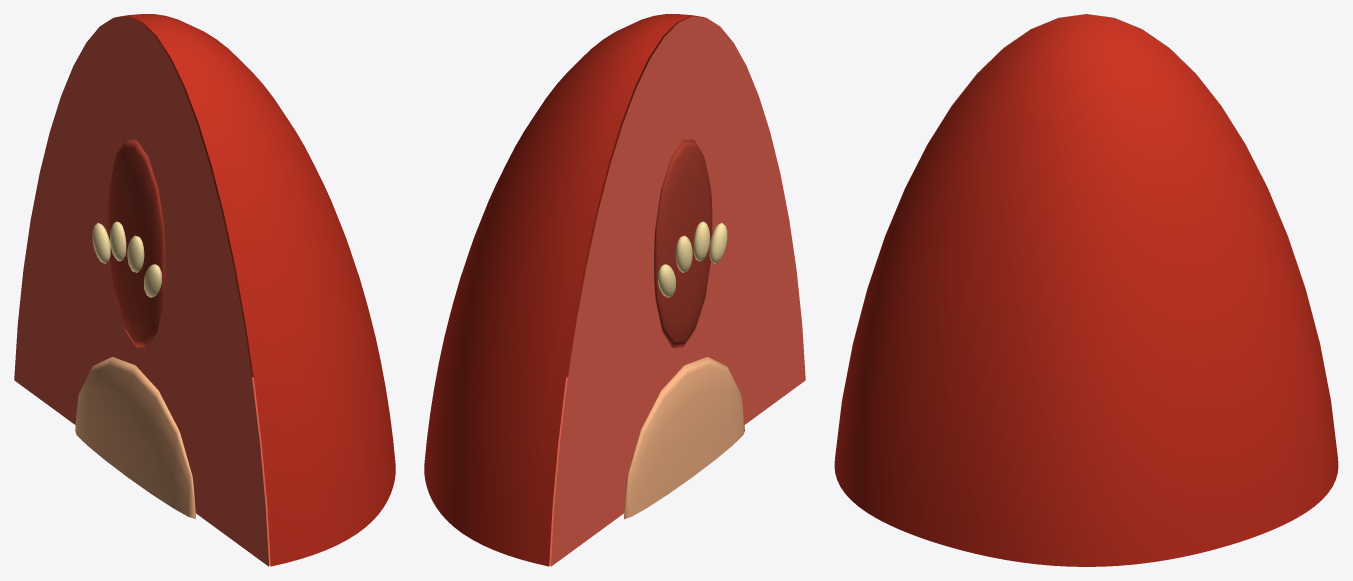
Rendered from roma_wedge.glb.
3 views of the same model, side by side, from view 1: azimuth 30°, elevation 25°; view 2: azimuth 150°, elevation 25°; view 3: azimuth 270°, elevation 25° (orthographic).
Parts seen in each view (by area): view 1: Cut flesh, Prepared right half, Pale central core, Seed chamber, Seed, Seed.001, Seed.002, Seed.003; view 2: Cut flesh, Prepared right half, Pale central core, Seed chamber, Seed.003, Seed.002, Seed.001, Seed; view 3: Prepared right half, Cut flesh.
Boxes of the visible parts, x1,y1,x2,y2 form: Cut flesh: (14,16,269,566); Prepared right half: (115,14,395,566); Pale central core: (75,357,195,519); Seed chamber: (107,139,165,347); Seed: (92,223,110,263); Seed.001: (110,221,126,261); Seed.002: (127,235,144,272); Seed.003: (144,264,161,297); Cut flesh: (550,16,805,566); Prepared right half: (424,14,704,566); Pale central core: (624,357,744,519); Seed chamber: (654,139,712,347); Seed.003: (709,223,727,263); Seed.002: (693,221,709,261); Seed.001: (675,235,692,272); Seed: (658,264,675,297); Prepared right half: (834,15,1338,566); Cut flesh: (835,14,1337,454).
Size of the model in its own units: 0.4458 by 0.78 by 0.8014.
